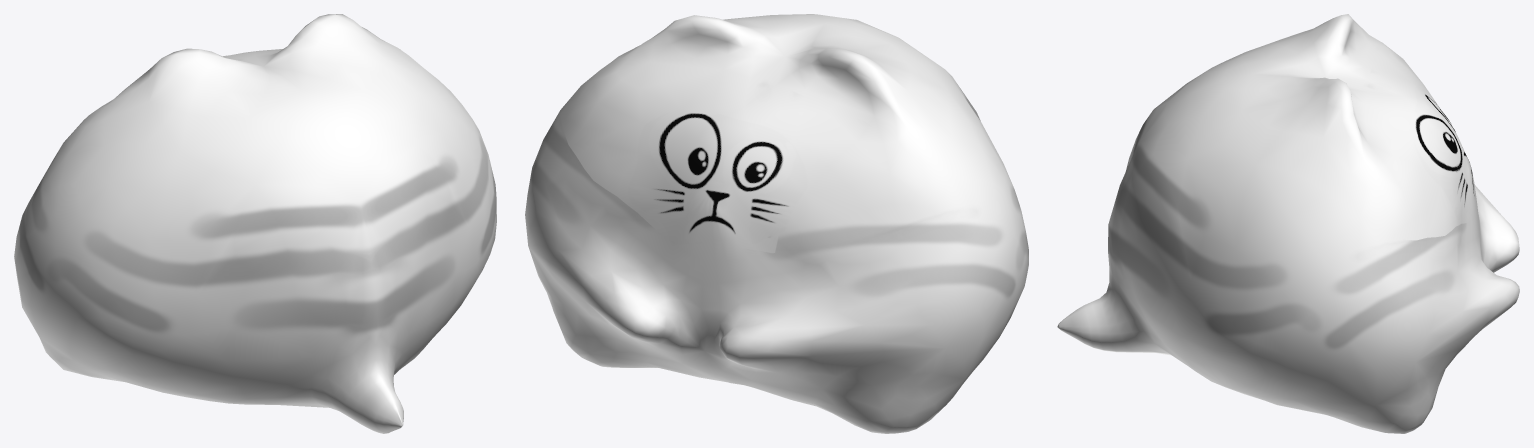
The model's file is Cat03.fbx.
3 renders of one model, left to right at view 1: azimuth 30°, elevation 25°; view 2: azimuth 150°, elevation 25°; view 3: azimuth 270°, elevation 25°, orthographic. The views are drawn at different scales.
Visible parts, largest first — view 1: Cat03Mesh; view 2: Cat03Mesh; view 3: Cat03Mesh.
Part boxes in pixels (<box>): Cat03Mesh: <box>14,14,496,433</box>; Cat03Mesh: <box>525,14,1028,433</box>; Cat03Mesh: <box>1057,14,1519,433</box>.
Size of the model in its own units: 63.58 by 45.61 by 59.21.
